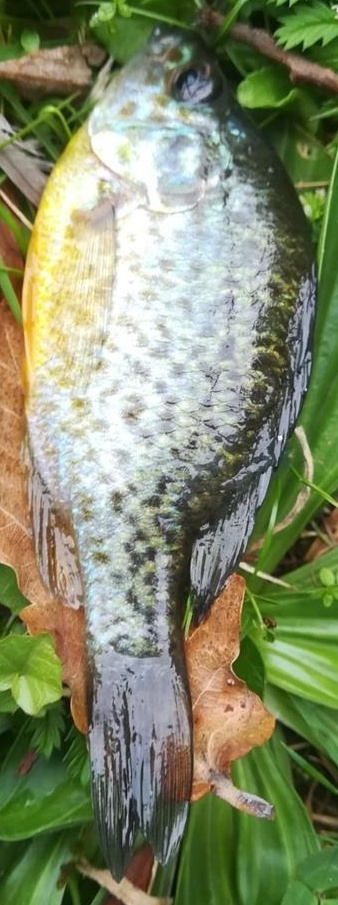Lepomis gibbosus: (20, 20, 318, 885)
